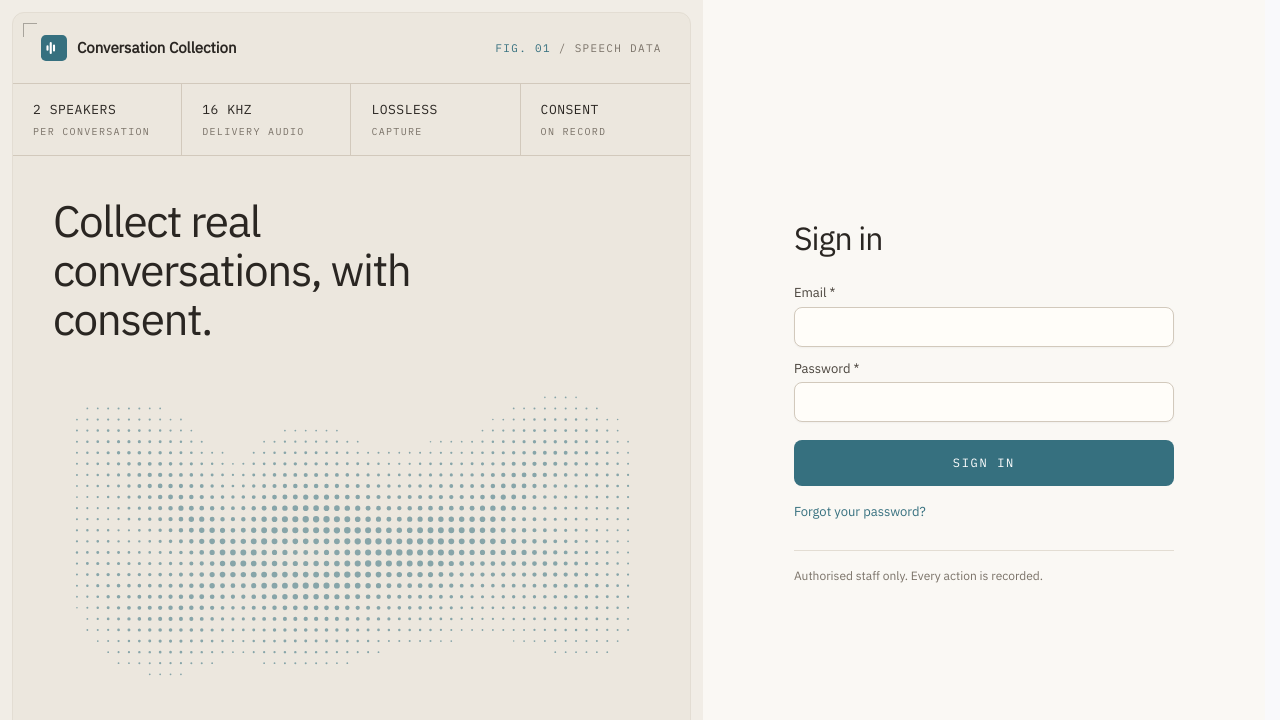
LoginPage › shows the server's message for wrong credentials, without its reference
Type "a@example.org" into the field labelled "Email *". click: (984, 327)
box: x1=794 y1=307 x2=1174 y2=347
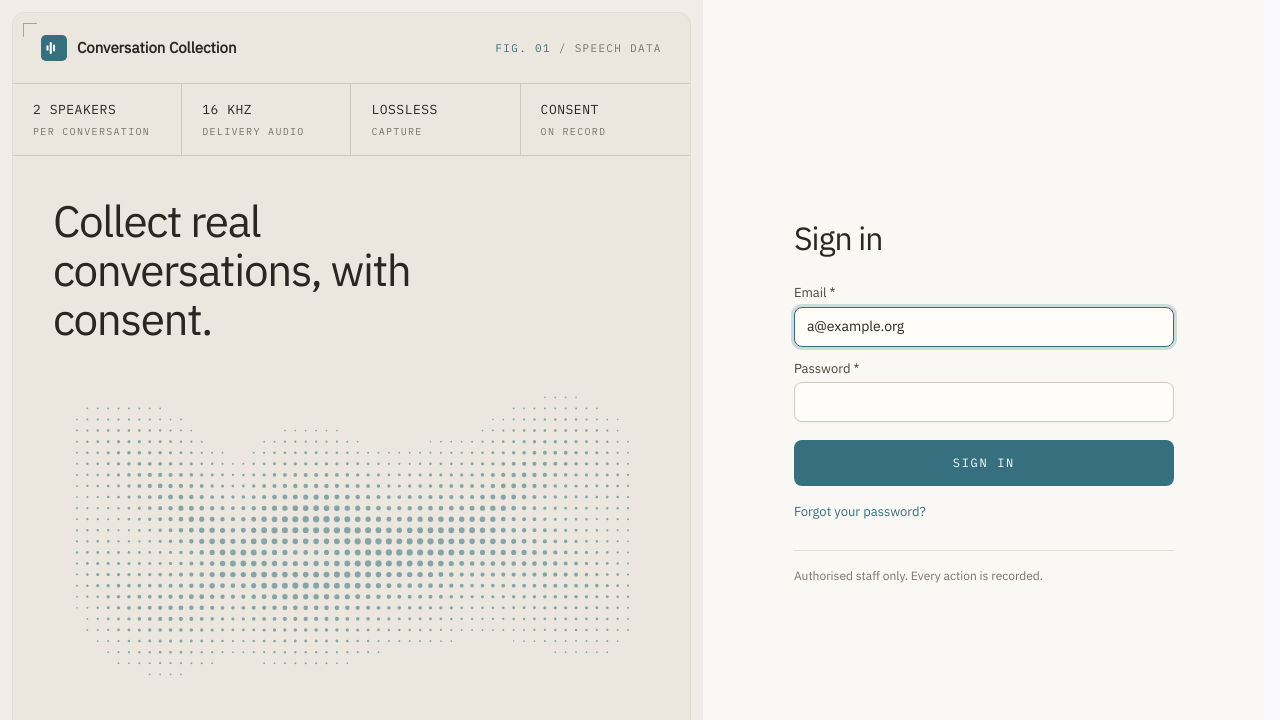
Type "wrong" into the password field labelled "Password *". click: (984, 402)
box: x1=794 y1=382 x2=1174 y2=422
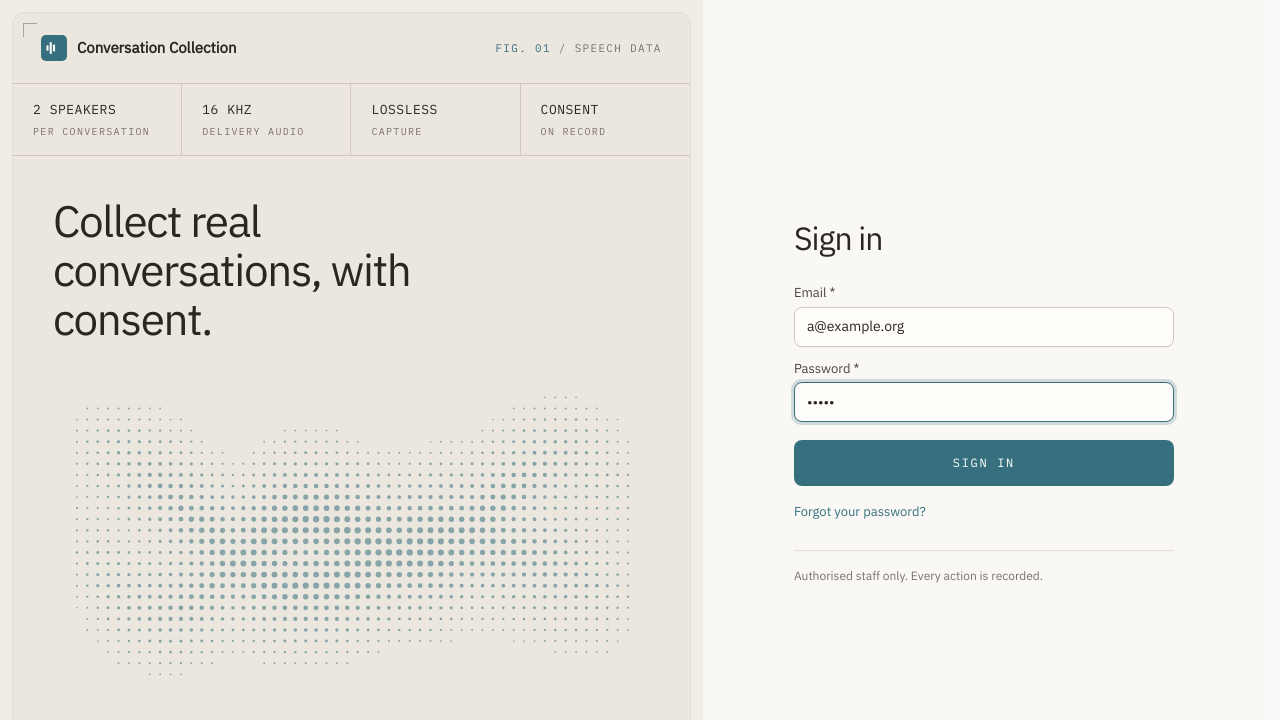
Click the button "Sign in". click: (984, 463)
box: x1=794 y1=440 x2=1174 y2=486
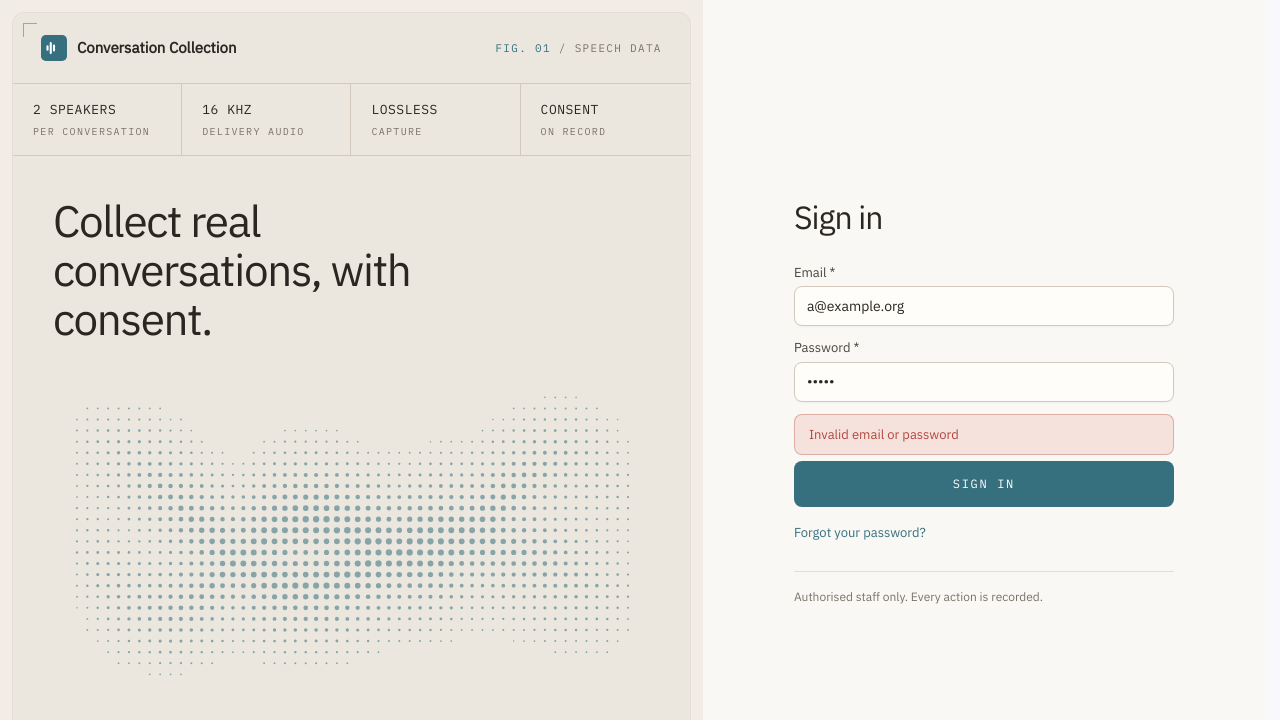
Check: the message reads "Invalid email or password", box x1=809 y1=426 x2=959 y2=443
